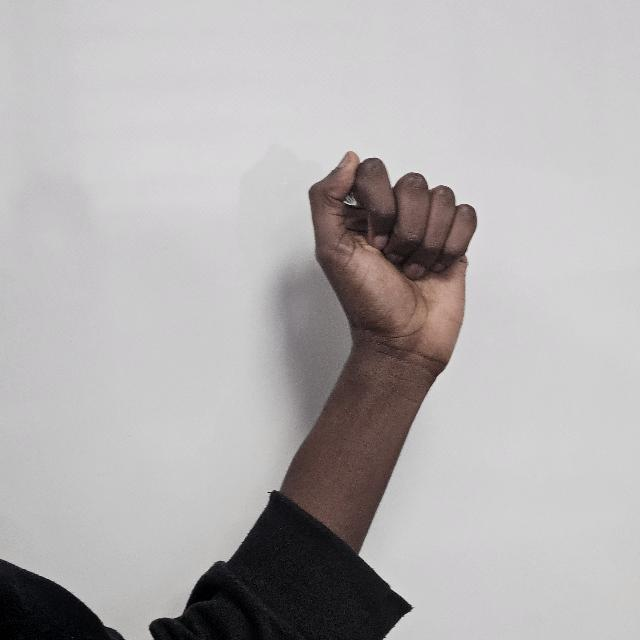Quadro: (308, 148, 480, 370)
